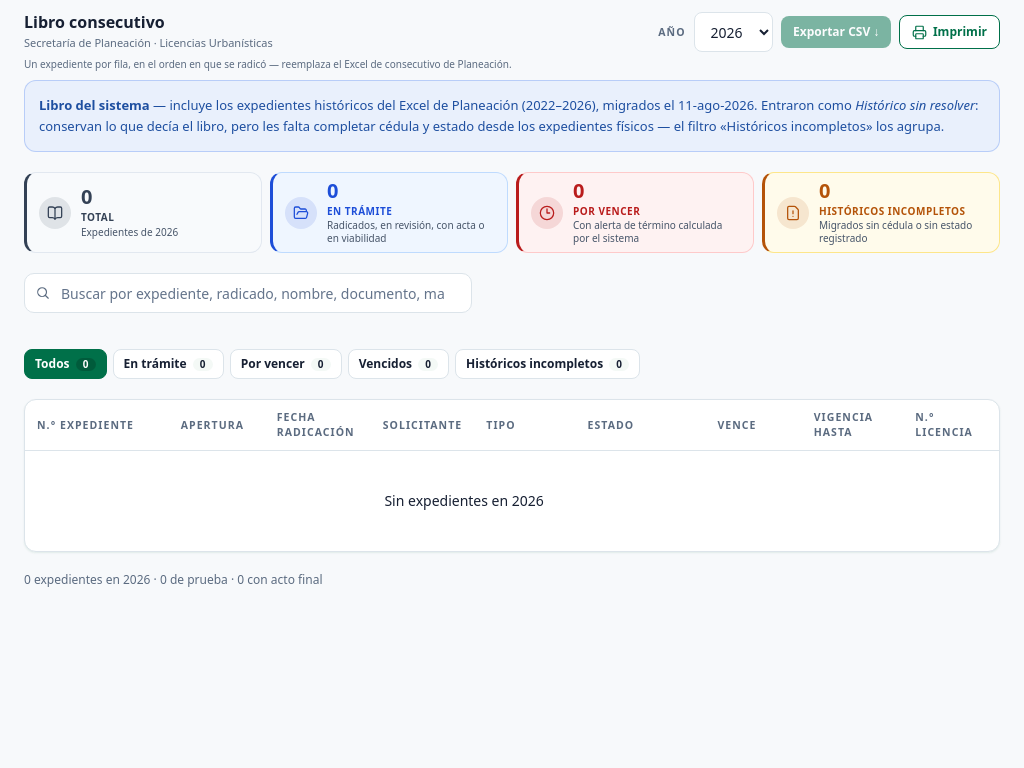
it: Libro consecutivo — colisión de radicado visible › marca ambas filas y dice CON QUIÉN colisiona cada una (es lo que se necesita para resolver)
Select "2025" in the dropdown named "Año del libro consecutivo" at [733, 32], box [694,12,773,52]
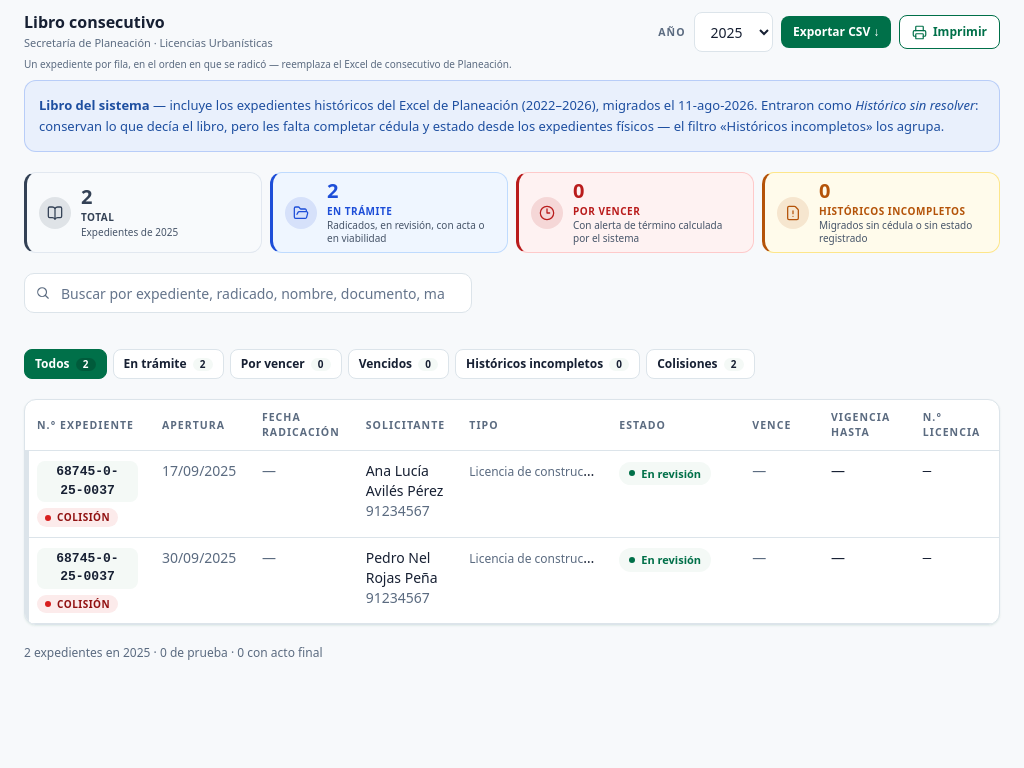
Check: the number of elements named "Colisión de número de expediente" is 2, box [37,508,118,527]; [37,595,118,613]
